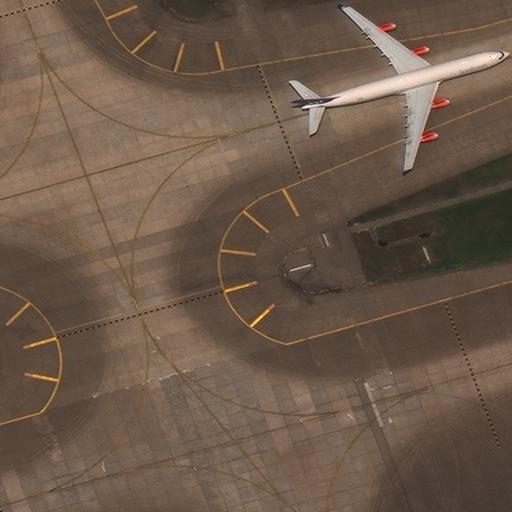Large Civil Transport: (299, 4, 508, 169)
